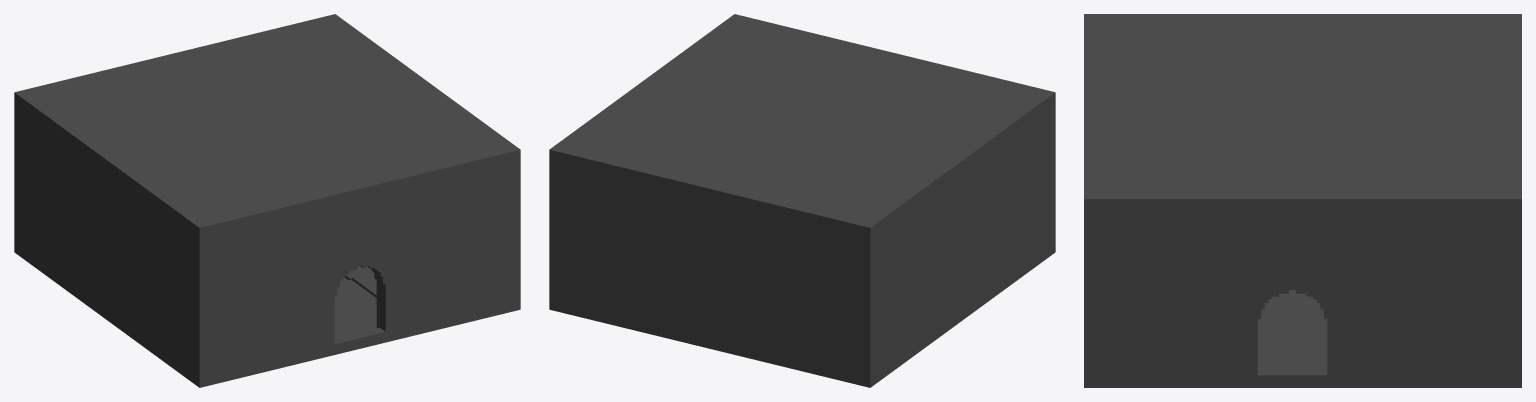
Rendered from Area7.obj.
The picture shows the model from 3 angles, left to right: view 1: azimuth 30°, elevation 25°; view 2: azimuth 150°, elevation 25°; view 3: azimuth 270°, elevation 25°; orthographic projection. The views are drawn at different scales.
Size of the model in its own units: 126 by 60 by 126.
Materials: 1 (1 with a texture image).
